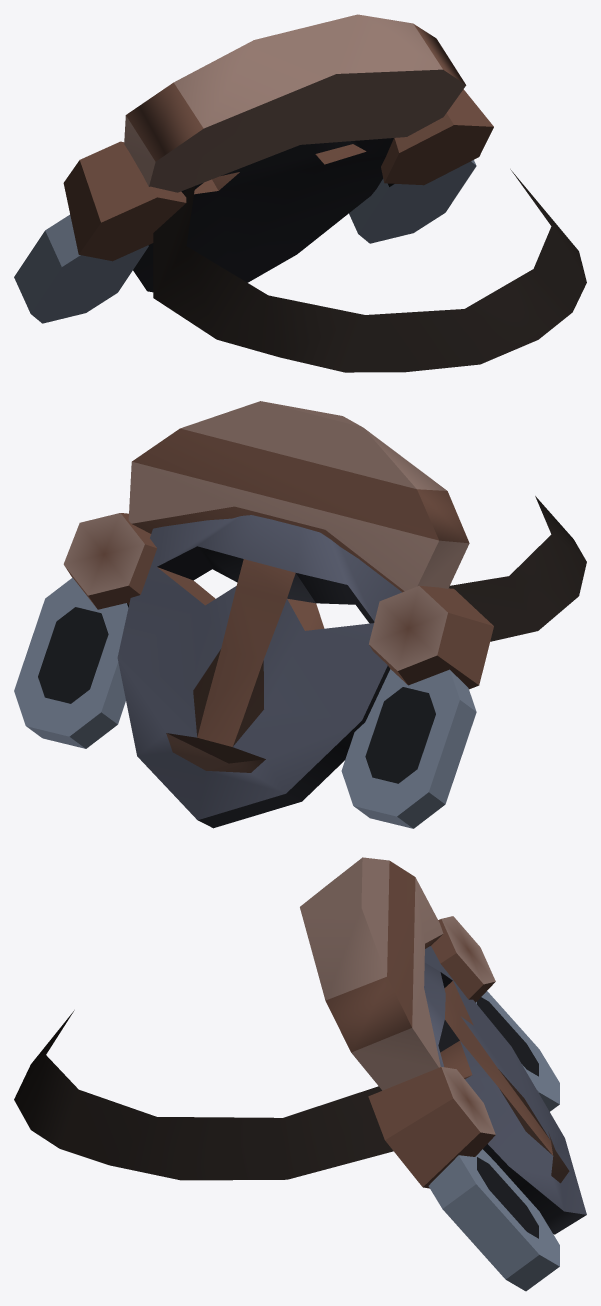
File: hat_mayan6.glb
3 views of the same model, one above another, from view 1: azimuth 30°, elevation 25°; view 2: azimuth 150°, elevation 25°; view 3: azimuth 270°, elevation 25° (orthographic).
Visible parts, largest first — view 1: hat_mayan6; view 2: hat_mayan6; view 3: hat_mayan6.
Boxes of the visible parts, x1,y1,x2,y2 form: hat_mayan6: (14,14,586,372); hat_mayan6: (14,401,586,828); hat_mayan6: (14,857,586,1291).
Size of the model in its own units: 0.3854 by 0.3069 by 0.4543.
